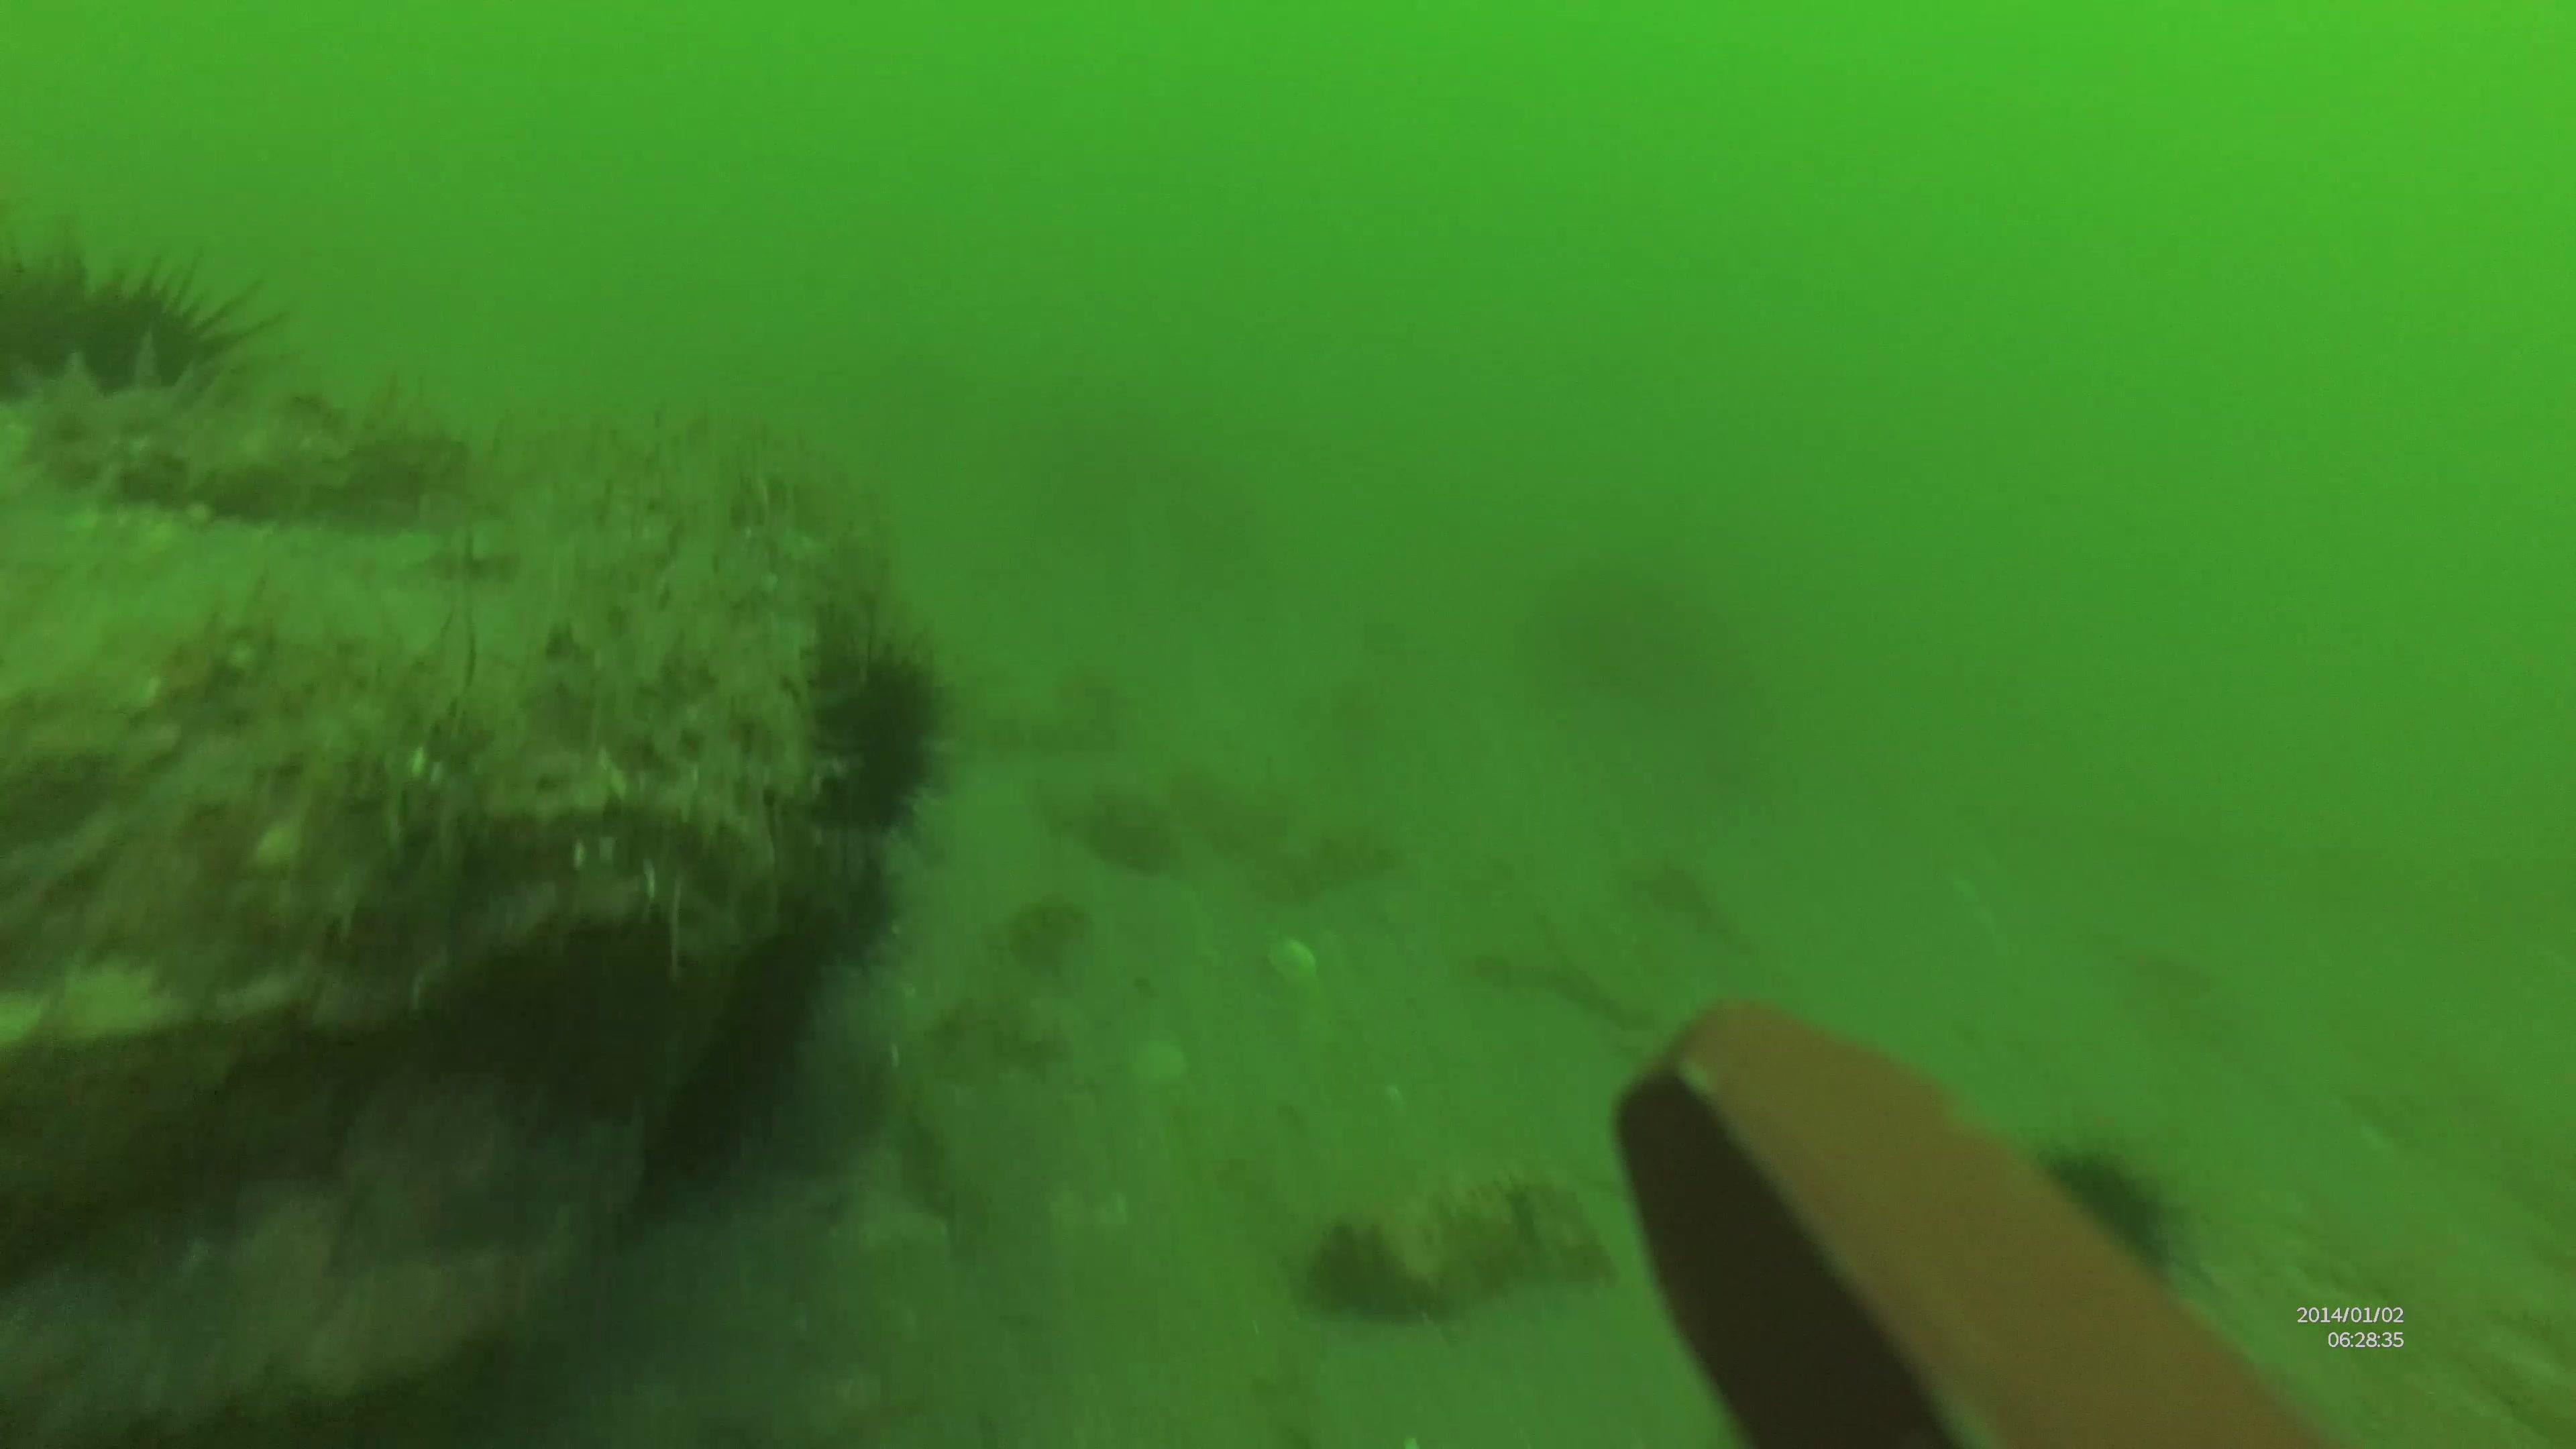echinus: (0, 253, 272, 497), (740, 630, 959, 847), (2013, 1141, 2204, 1327)
holothurian: (16, 336, 444, 517)
